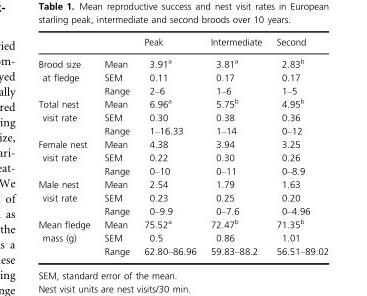table: (37, 37, 328, 256)
table column: (136, 37, 202, 256), (202, 37, 268, 256), (268, 37, 328, 256), (37, 37, 96, 256), (96, 37, 136, 256)
table column header: (37, 37, 328, 52)
table row: (37, 52, 328, 70), (37, 37, 328, 52), (37, 96, 328, 111), (37, 123, 328, 137), (37, 137, 328, 151), (37, 177, 328, 191), (37, 217, 328, 231), (37, 70, 328, 83), (37, 83, 328, 96), (37, 151, 328, 164), (37, 164, 328, 177), (37, 191, 328, 204), (37, 204, 328, 217), (37, 231, 328, 244), (37, 111, 328, 123), (37, 244, 328, 256)
table spanning cell: (37, 52, 96, 96), (37, 96, 96, 137), (37, 137, 96, 177), (37, 177, 96, 217), (37, 217, 96, 256)
